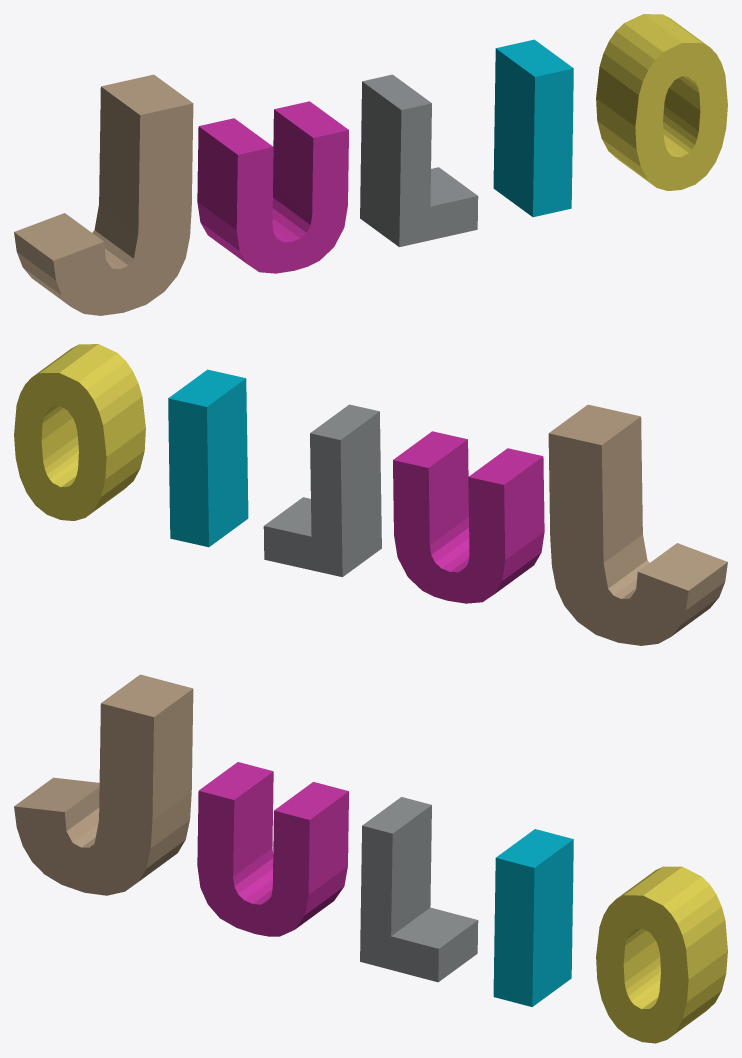
File: nombre.glb
3 views of the same model, one above another, from view 1: azimuth 30°, elevation 25°; view 2: azimuth 150°, elevation 25°; view 3: azimuth 330°, elevation 25° (orthographic).
Parts seen in each view (by area): view 1: Mesh_Mesh_head_geo.001_lambert2SG.001; view 2: Mesh_Mesh_head_geo.001_lambert2SG.001; view 3: Mesh_Mesh_head_geo.001_lambert2SG.001.
Part boxes in pixels (x1,y1,x2,y2): Mesh_Mesh_head_geo.001_lambert2SG.001: (14, 14, 727, 315); Mesh_Mesh_head_geo.001_lambert2SG.001: (14, 344, 727, 645); Mesh_Mesh_head_geo.001_lambert2SG.001: (14, 674, 727, 1043).
Size of the model in its own units: 154 by 44.97 by 15.51.
